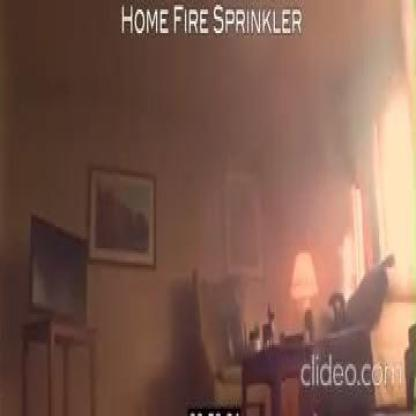fire: (340, 184, 364, 300)
